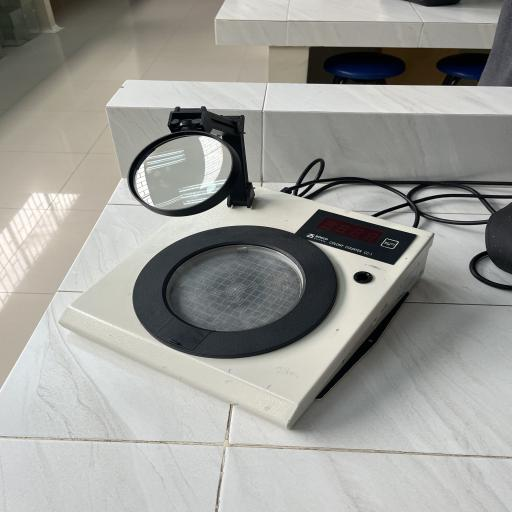Contador_Colonias_CC1: (45, 95, 458, 438)
